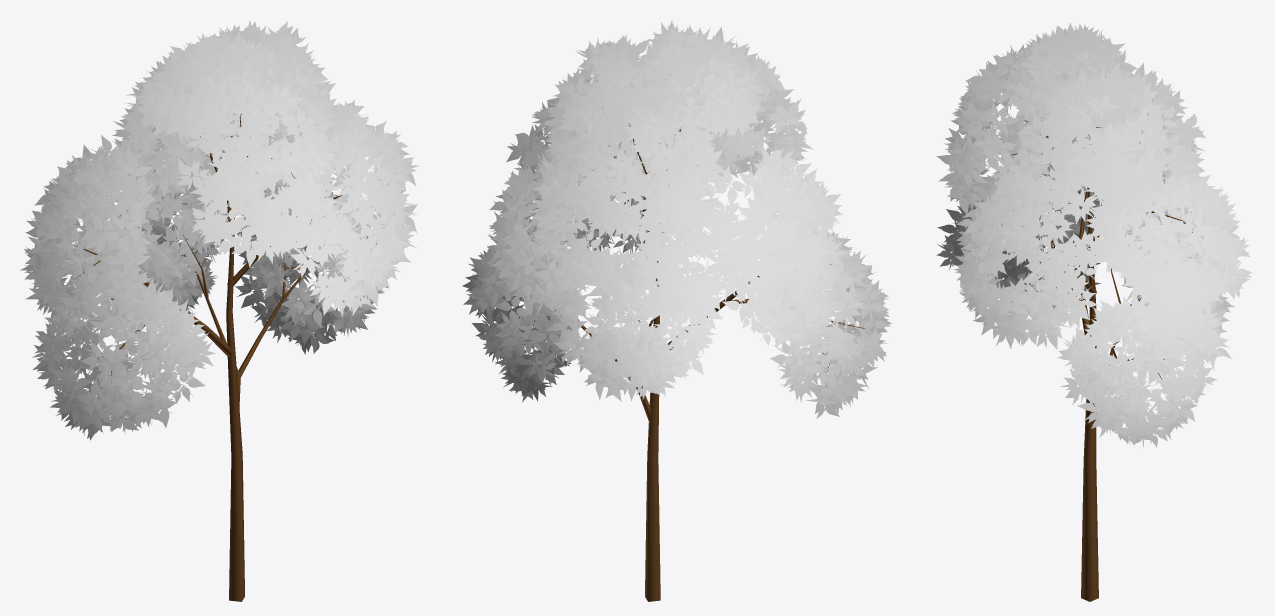
The model's file is tree_LOD0.fbx.
The picture shows the model from 3 angles, left to right: view 1: azimuth 30°, elevation 25°; view 2: azimuth 150°, elevation 25°; view 3: azimuth 270°, elevation 25°; orthographic projection. The views are drawn at different scales.
Parts seen in each view (by area): view 1: Leaves_LOD0, Trunk.001; view 2: Leaves_LOD0, Trunk.001; view 3: Leaves_LOD0, Trunk.001.
Part boxes in pixels (left/top/right/bottom): Leaves_LOD0: left=20, top=20, right=419, bottom=440; Trunk.001: left=61, top=114, right=341, bottom=601; Leaves_LOD0: left=462, top=20, right=892, bottom=418; Trunk.001: left=525, top=80, right=871, bottom=601; Leaves_LOD0: left=936, top=23, right=1252, bottom=448; Trunk.001: left=981, top=69, right=1203, bottom=601.
Size of the model in its own units: 4.74 by 6.95 by 3.71.
